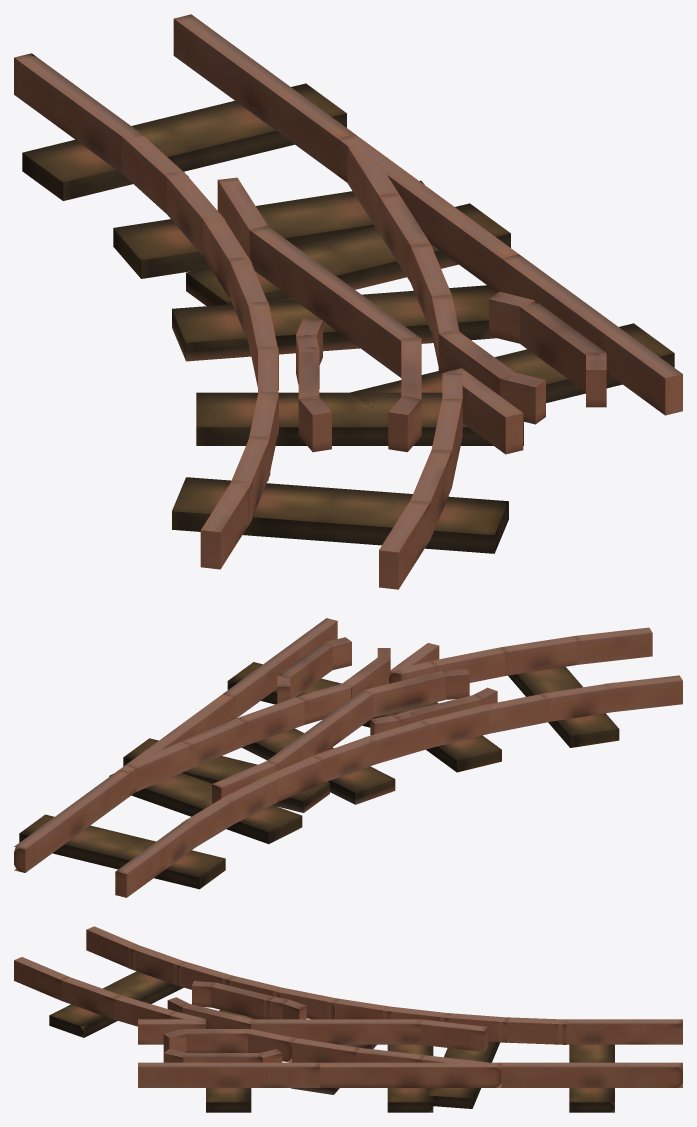
File: switch2.obj
3 renders of one model, top to bottom at view 1: azimuth 30°, elevation 25°; view 2: azimuth 150°, elevation 25°; view 3: azimuth 270°, elevation 25°, orthographic. The views are drawn at different scales.
Visible parts, largest first — view 1: cube; view 2: cube; view 3: cube.
Boxes of the visible parts, x1,y1,x2,y2 form: cube: (14,14,682,589); cube: (14,618,682,897); cube: (14,926,682,1112).
Bounding box in the file's own units: 32.4 × 3 × 58.91.
1 material, 1 textured.
